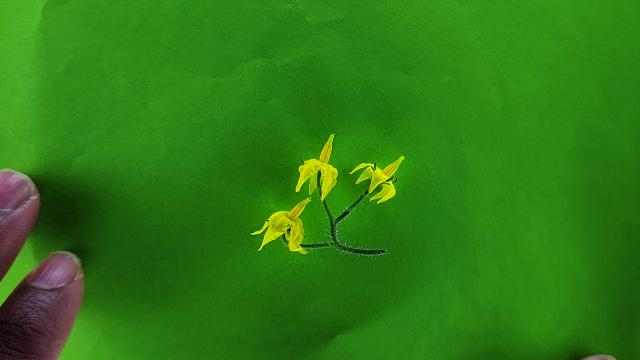Anthesis: (252, 195, 312, 255), (295, 133, 341, 205), (347, 156, 405, 204)
